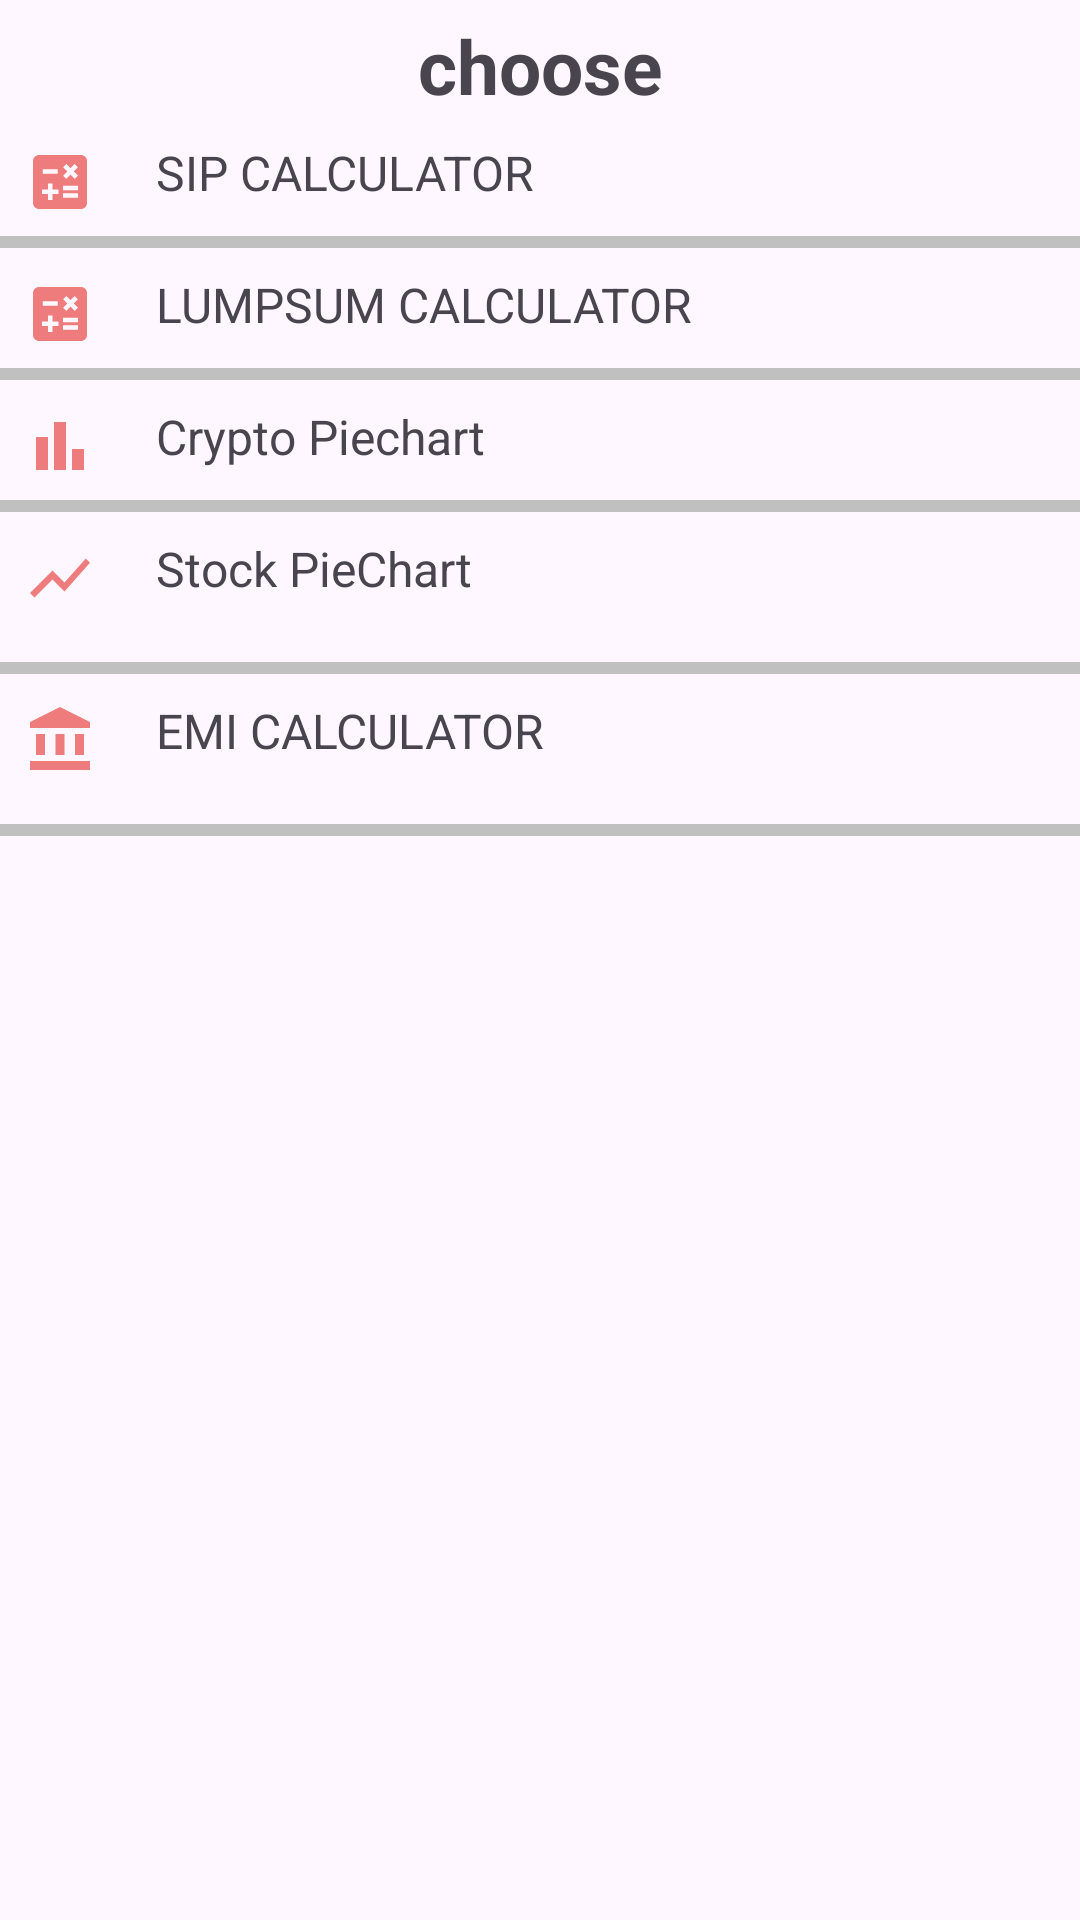

Locate icon controls on the screen. Image size 1080px x 1920px, boxes as rect(x1, y1, x2, y2).
account balance: rect(30, 707, 90, 770)
bar chart: rect(36, 422, 84, 470)
calculate: rect(33, 155, 87, 209), rect(33, 287, 87, 341)
show chart: rect(30, 558, 90, 598)
